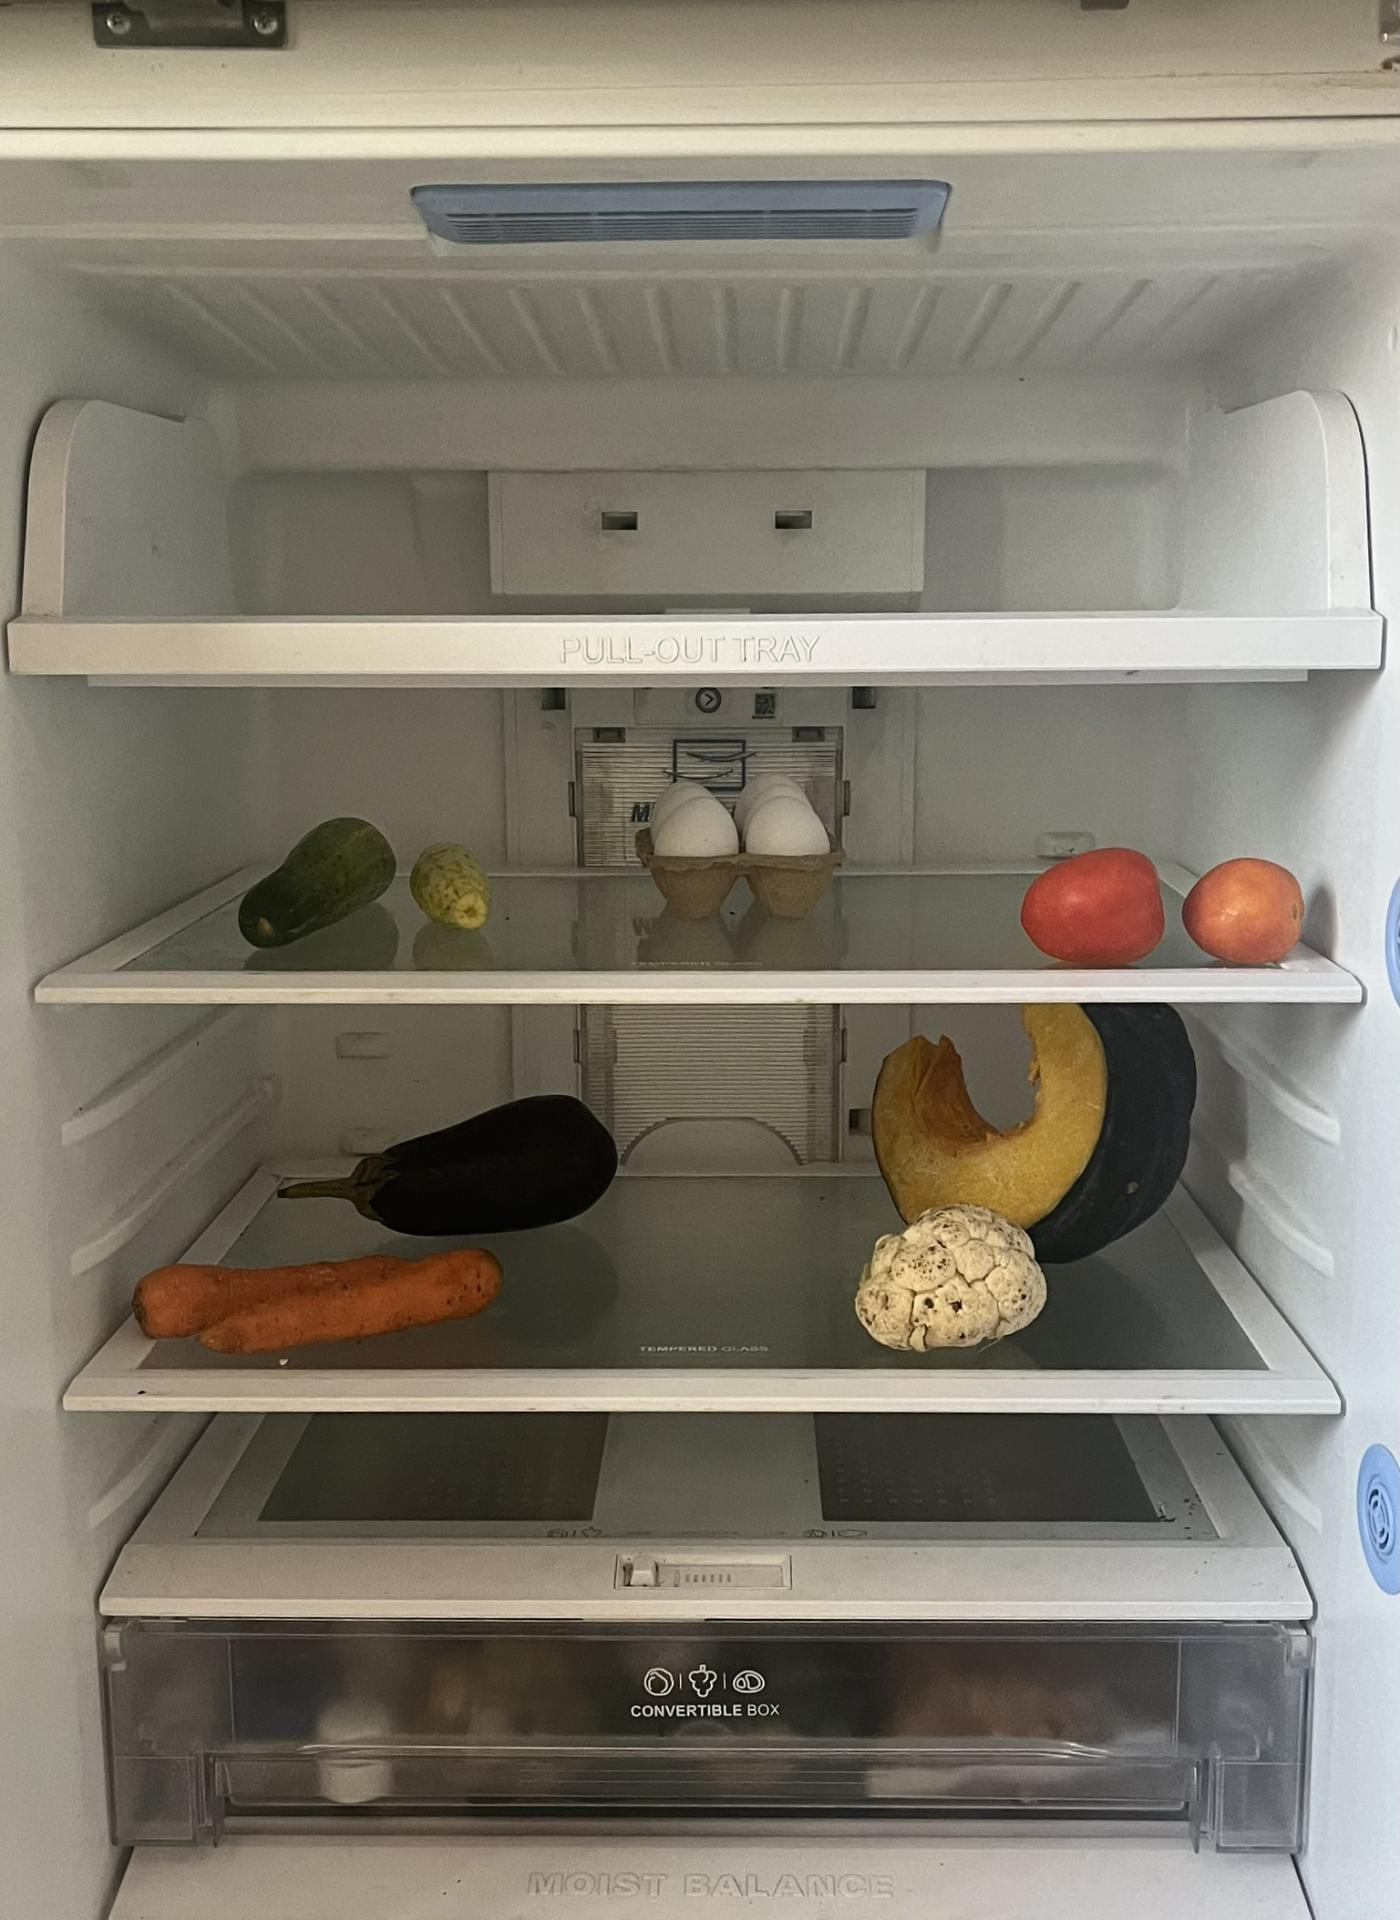brinjal: (309, 1093, 629, 1234)
carrots: (127, 1248, 499, 1355)
cauliflower: (856, 1209, 1050, 1349), (409, 839, 496, 930)
cucumber: (233, 811, 395, 944)
egg: (640, 771, 838, 859)
pumpkin: (877, 1005, 1205, 1248)
tomato: (1020, 839, 1166, 957), (1181, 851, 1311, 961)
